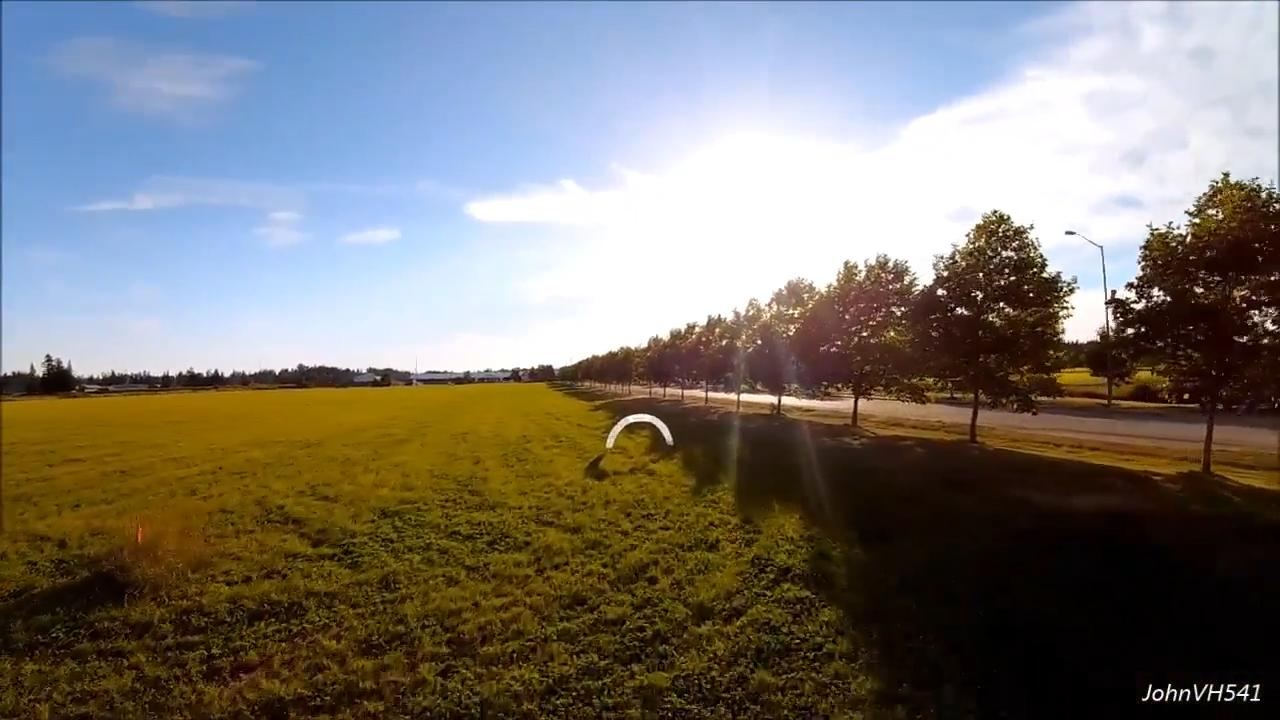gate: (603, 411, 677, 450)
